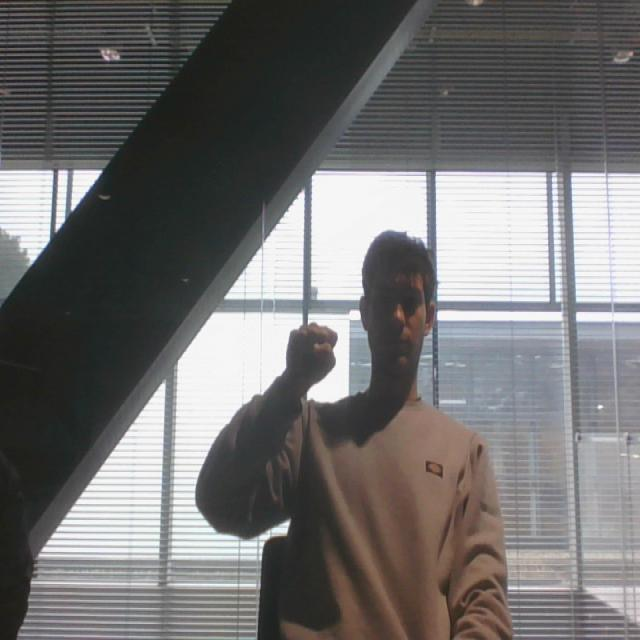stop: (283, 315, 339, 393)
